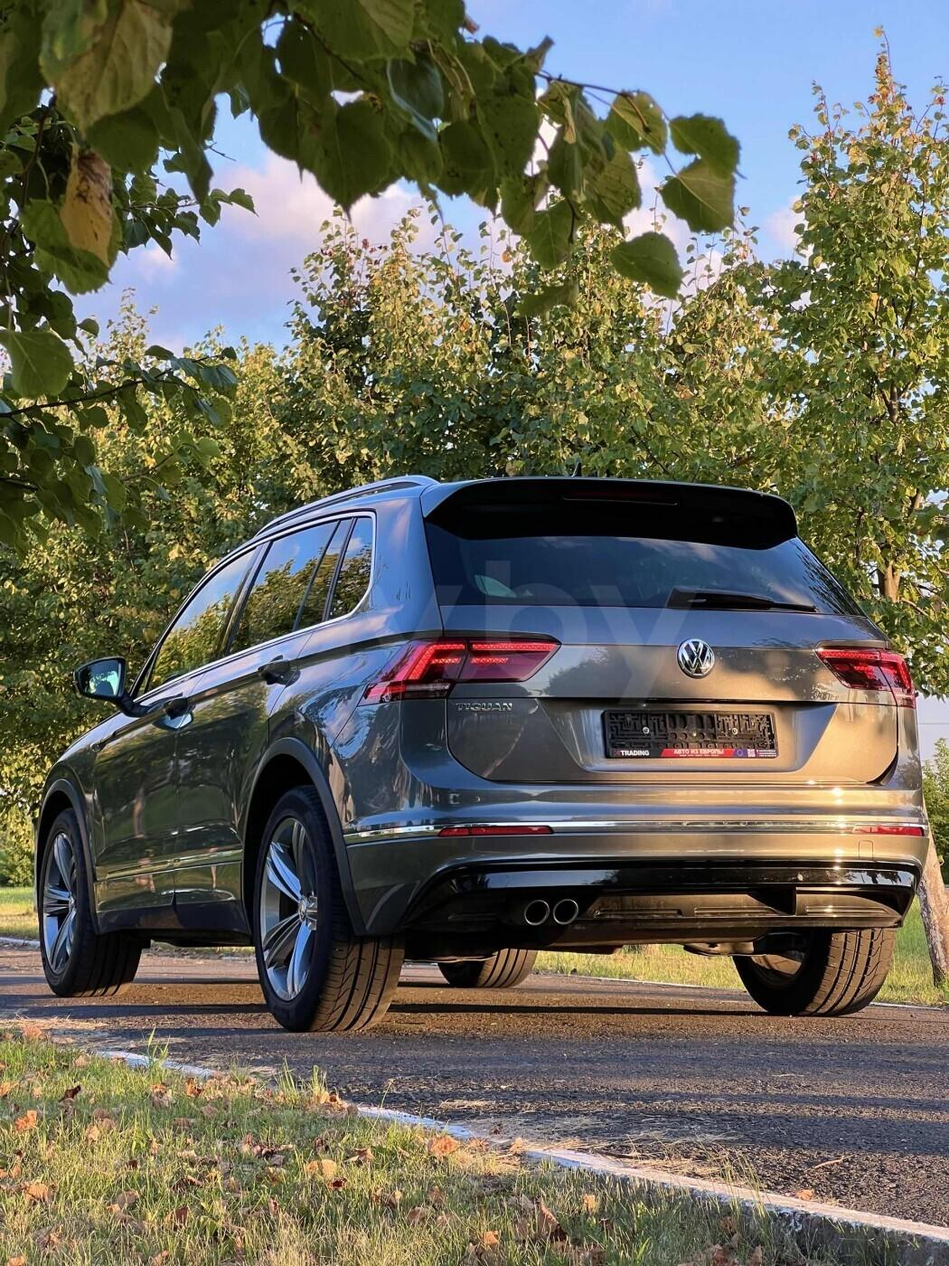Tiguan_2020-2024: (36, 472, 933, 1020)
